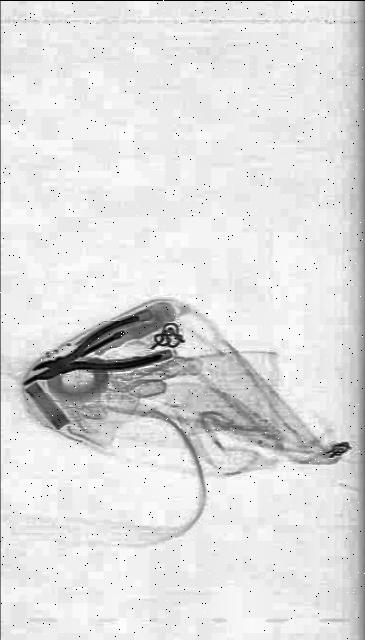Pliers: (31, 305, 164, 399)
